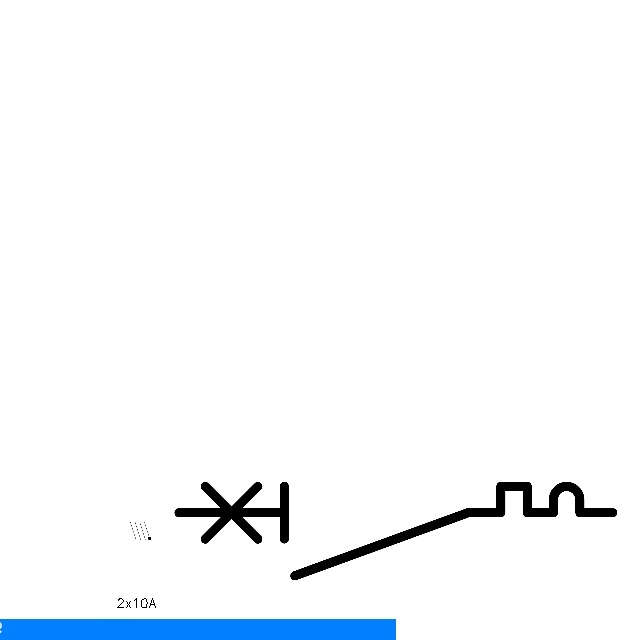interruptor_termomagnetico: (167, 475, 623, 586)
